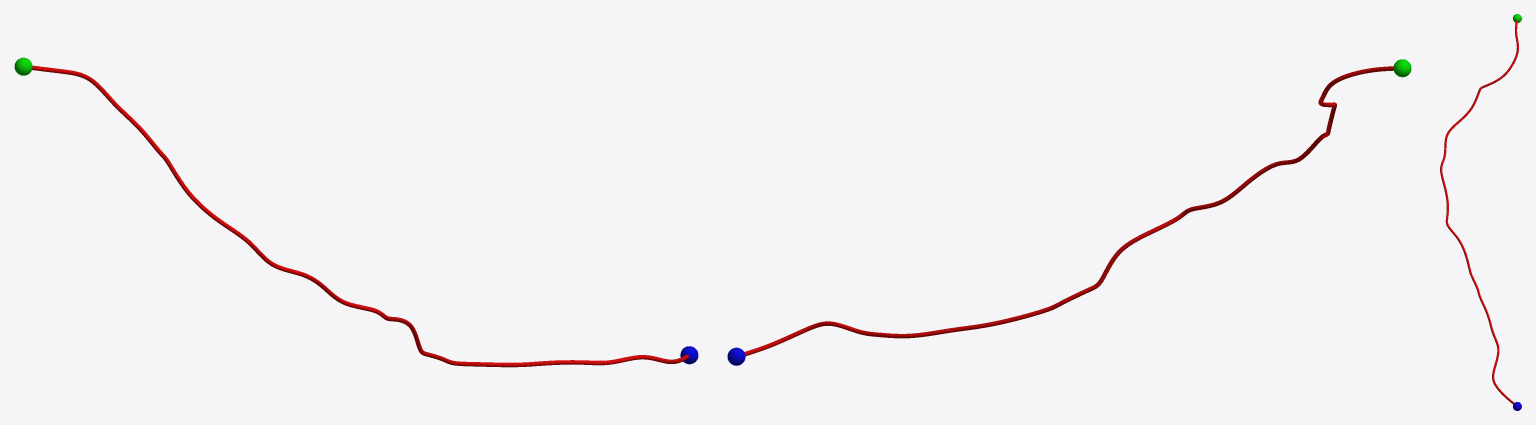
The model's file is paths.obj.
3 views of the same model, side by side, from view 1: azimuth 30°, elevation 25°; view 2: azimuth 150°, elevation 25°; view 3: azimuth 270°, elevation 25° (orthographic). The views are drawn at different scales.
Bounding box in the file's own units: 1.74 × 1.14 × 0.3622.
